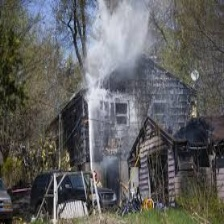smoke: (84, 7, 145, 138)
